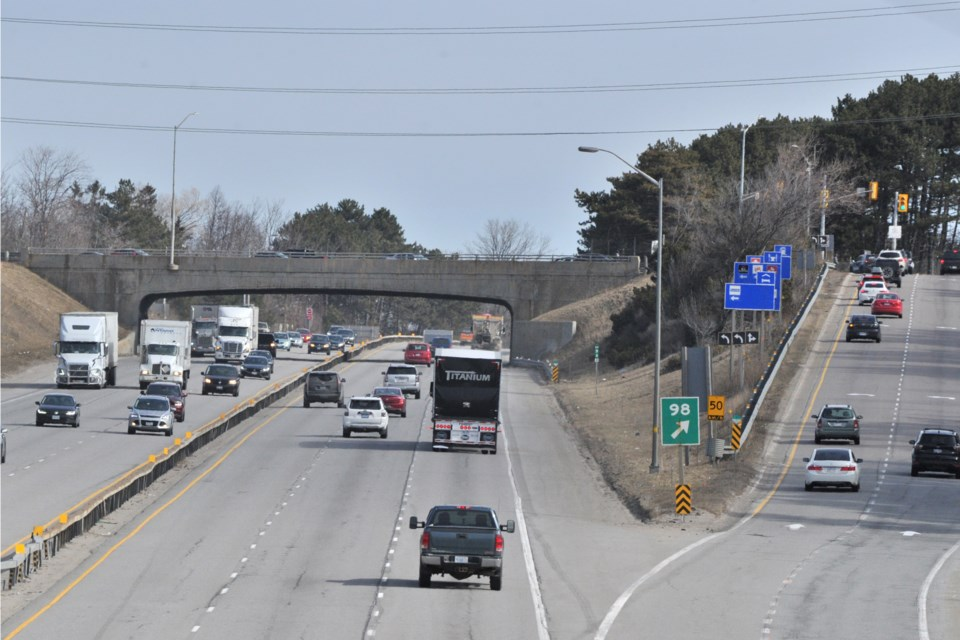bridge: (9, 250, 651, 375)
